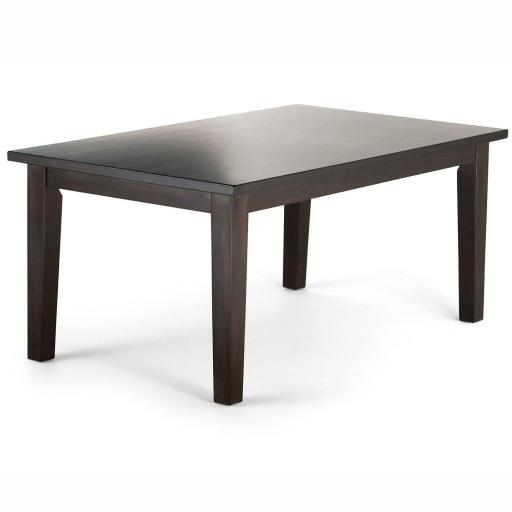table: (8, 104, 510, 388)
